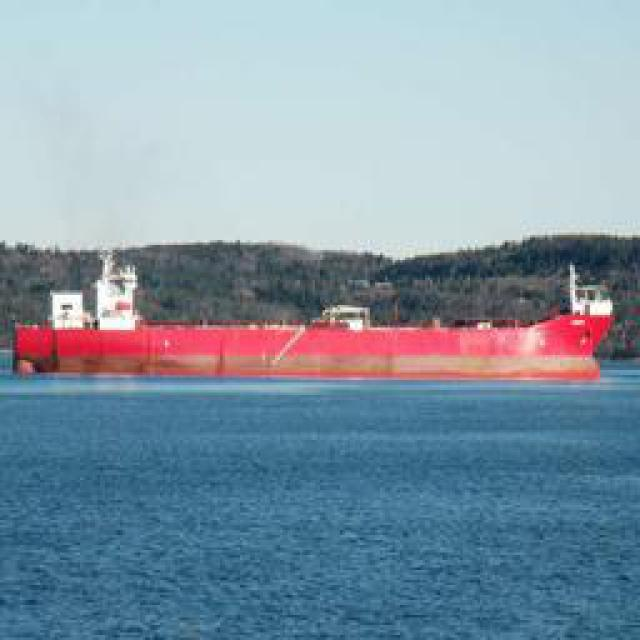Ship: (12, 302, 612, 385)
